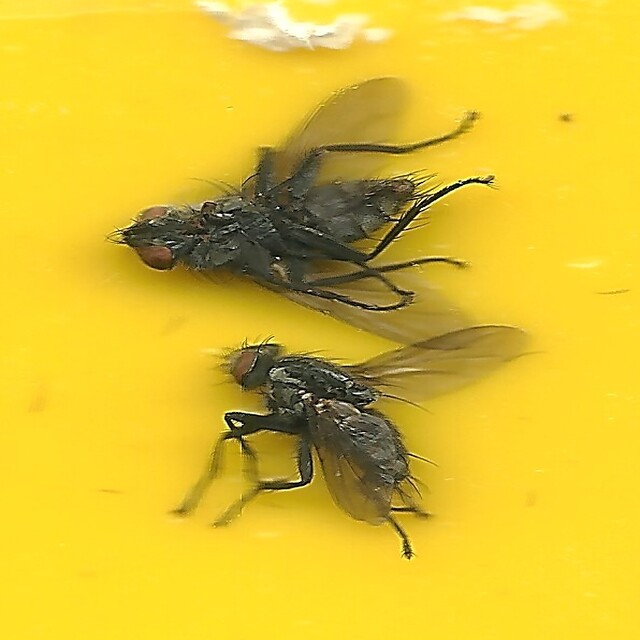Brachycera: (107, 75, 495, 348), (164, 324, 533, 565)
